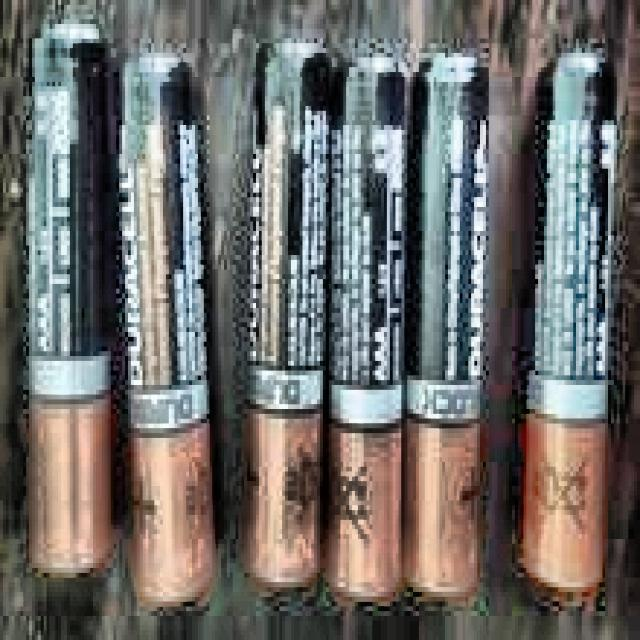battery: (121, 56, 212, 601), (31, 25, 120, 572), (525, 54, 615, 588), (404, 56, 488, 594), (246, 41, 328, 586), (328, 56, 405, 597)
